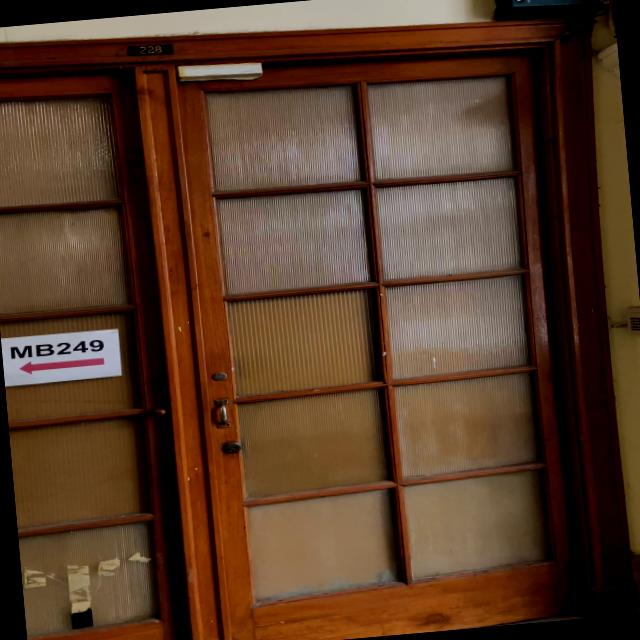room228: (125, 40, 173, 59)
